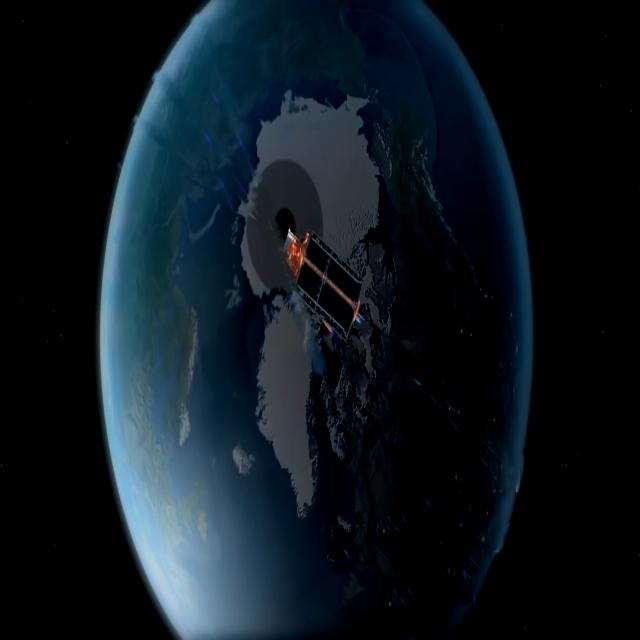medium_debris: (219, 108, 487, 396)
